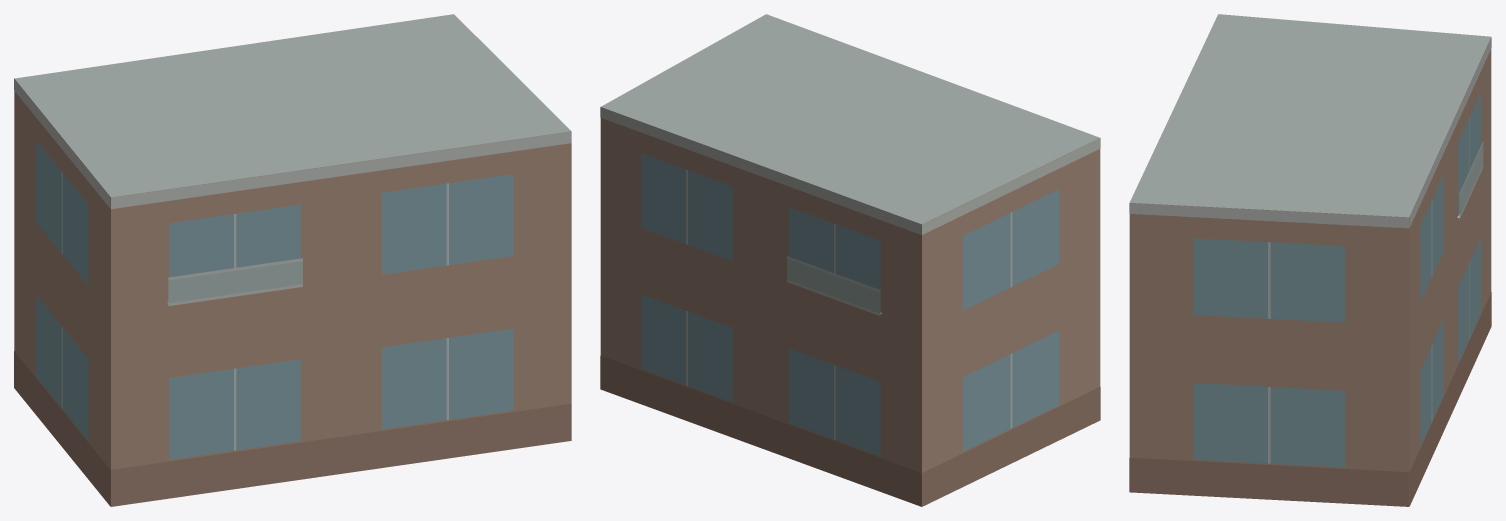
File: survey-upis-32517970.glb
The picture shows the model from 3 angles, left to right: view 1: azimuth 30°, elevation 25°; view 2: azimuth 150°, elevation 25°; view 3: azimuth 270°, elevation 25°; orthographic projection. The views are drawn at different scales.
Visible parts, largest first — view 1: survey-upis-32517970.tmp; view 2: survey-upis-32517970.tmp; view 3: survey-upis-32517970.tmp.
Boxes of the visible parts, bbox=[...] form: survey-upis-32517970.tmp: bbox=[14, 14, 571, 506]; survey-upis-32517970.tmp: bbox=[600, 14, 1100, 506]; survey-upis-32517970.tmp: bbox=[1129, 14, 1491, 506].
Bounding box in the file's own units: 9.65 × 6.4 × 7.27.
